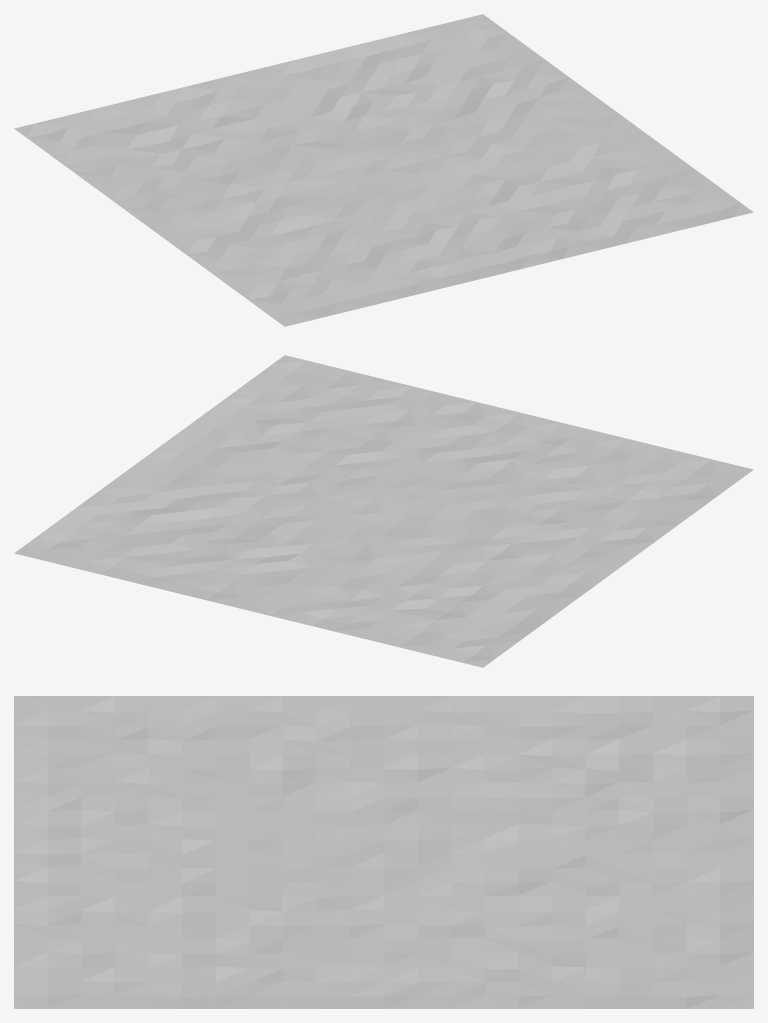
The model's file is washitsu_Ground_02.fbx.
The picture shows the model from 3 angles, top to bottom: view 1: azimuth 30°, elevation 25°; view 2: azimuth 150°, elevation 25°; view 3: azimuth 270°, elevation 25°; orthographic projection. The views are drawn at different scales.
Parts seen in each view (by area): view 1: washitsu_Ground_02; view 2: washitsu_Ground_02; view 3: washitsu_Ground_02.
Boxes of the visible parts, x1,y1,x2,y2 form: washitsu_Ground_02: (14, 14, 753, 326); washitsu_Ground_02: (14, 355, 753, 667); washitsu_Ground_02: (14, 696, 753, 1008).
Bounding box in the file's own units: 50 × 0.2701 × 50.
Materials: 1 (1 with a texture image).
